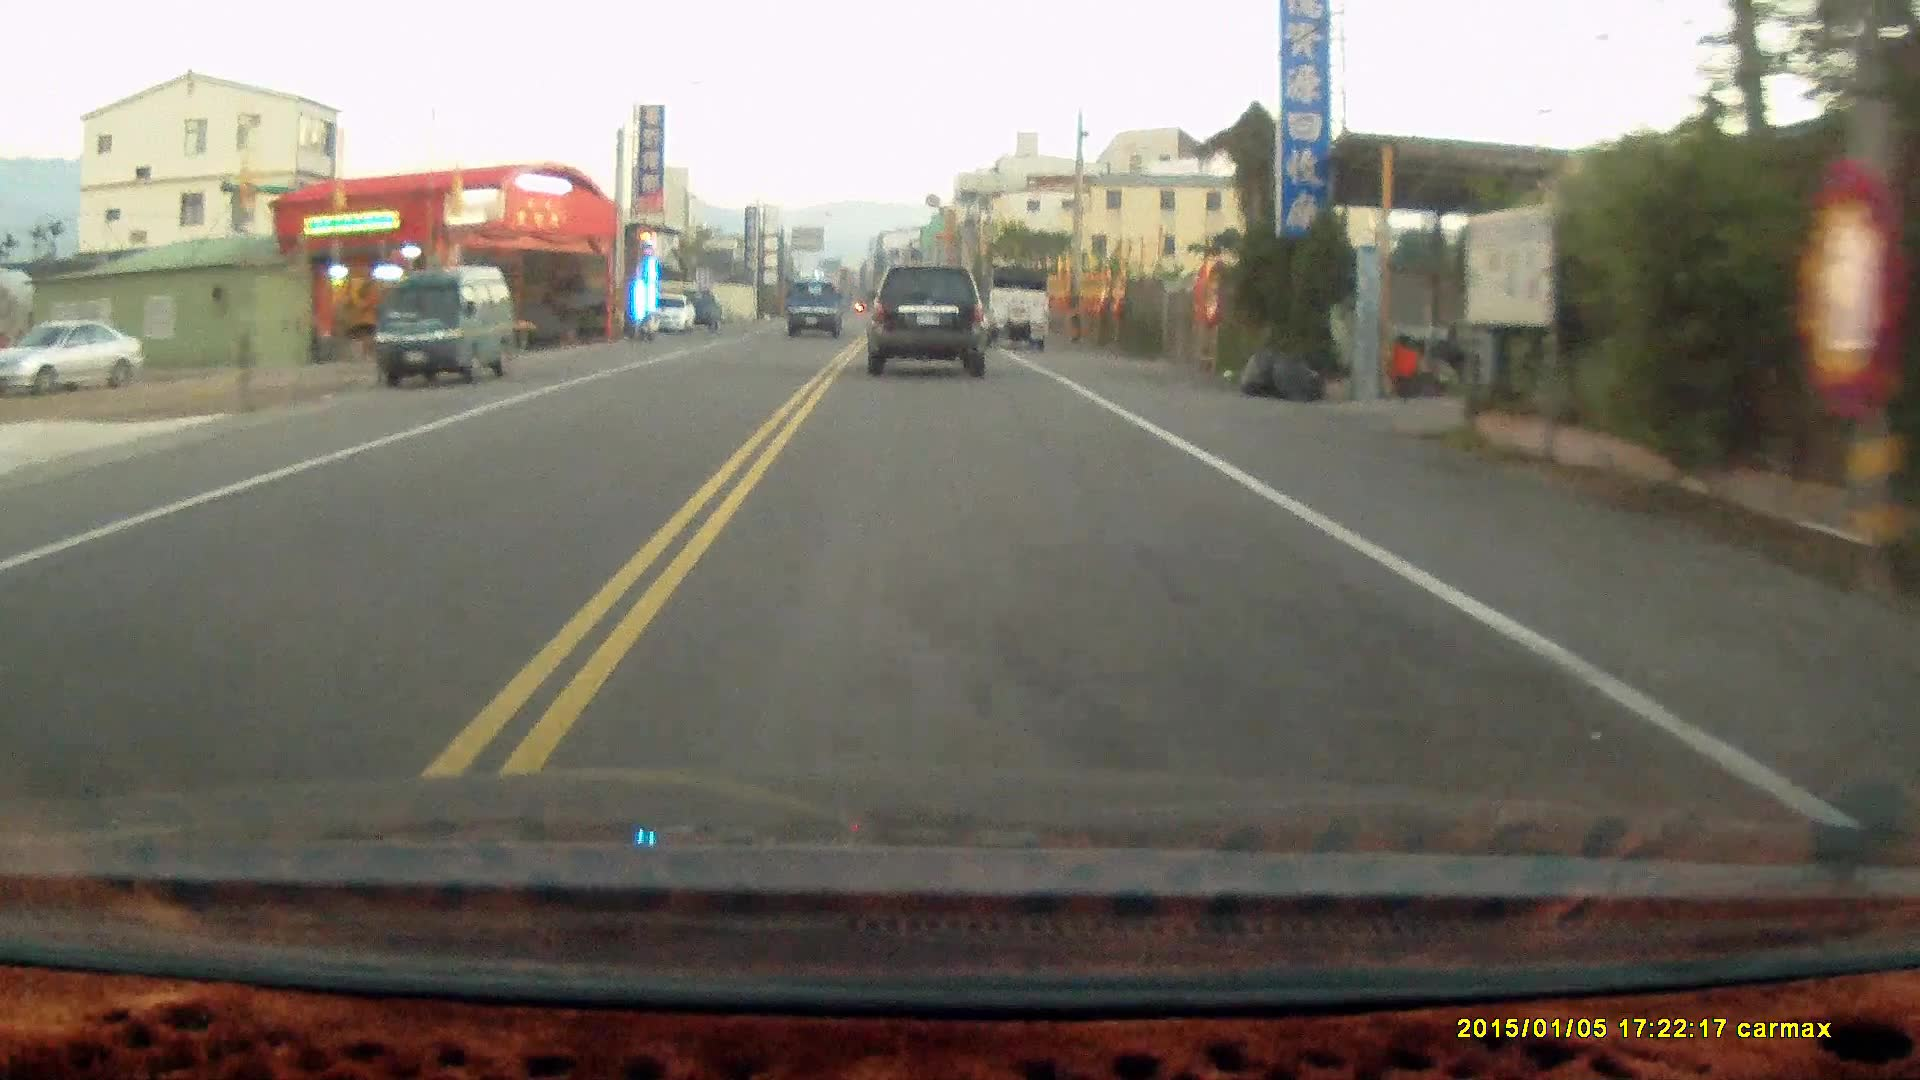vehicle: (372, 264, 520, 390), (869, 265, 989, 378), (0, 314, 141, 397), (967, 269, 1054, 353), (786, 284, 844, 343)
